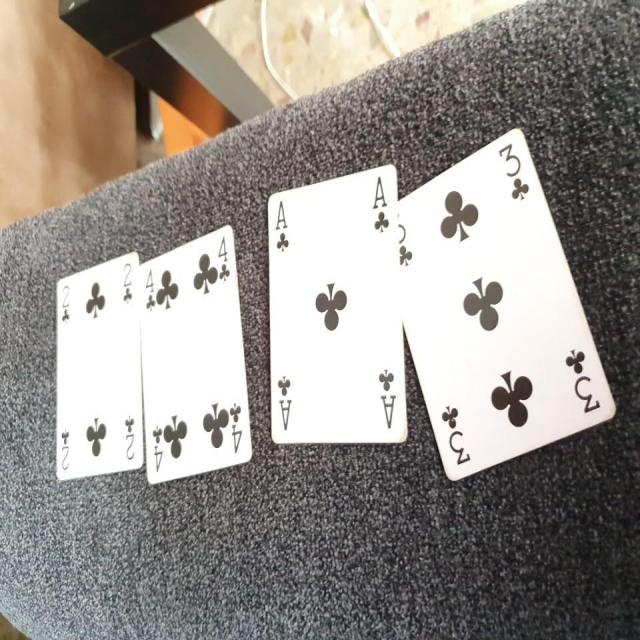2 Trefoils: (55, 248, 144, 481)
3 Trefoils: (398, 125, 616, 482)
4 Trefoils: (140, 223, 255, 486)
A Trefoils: (264, 162, 408, 444)
